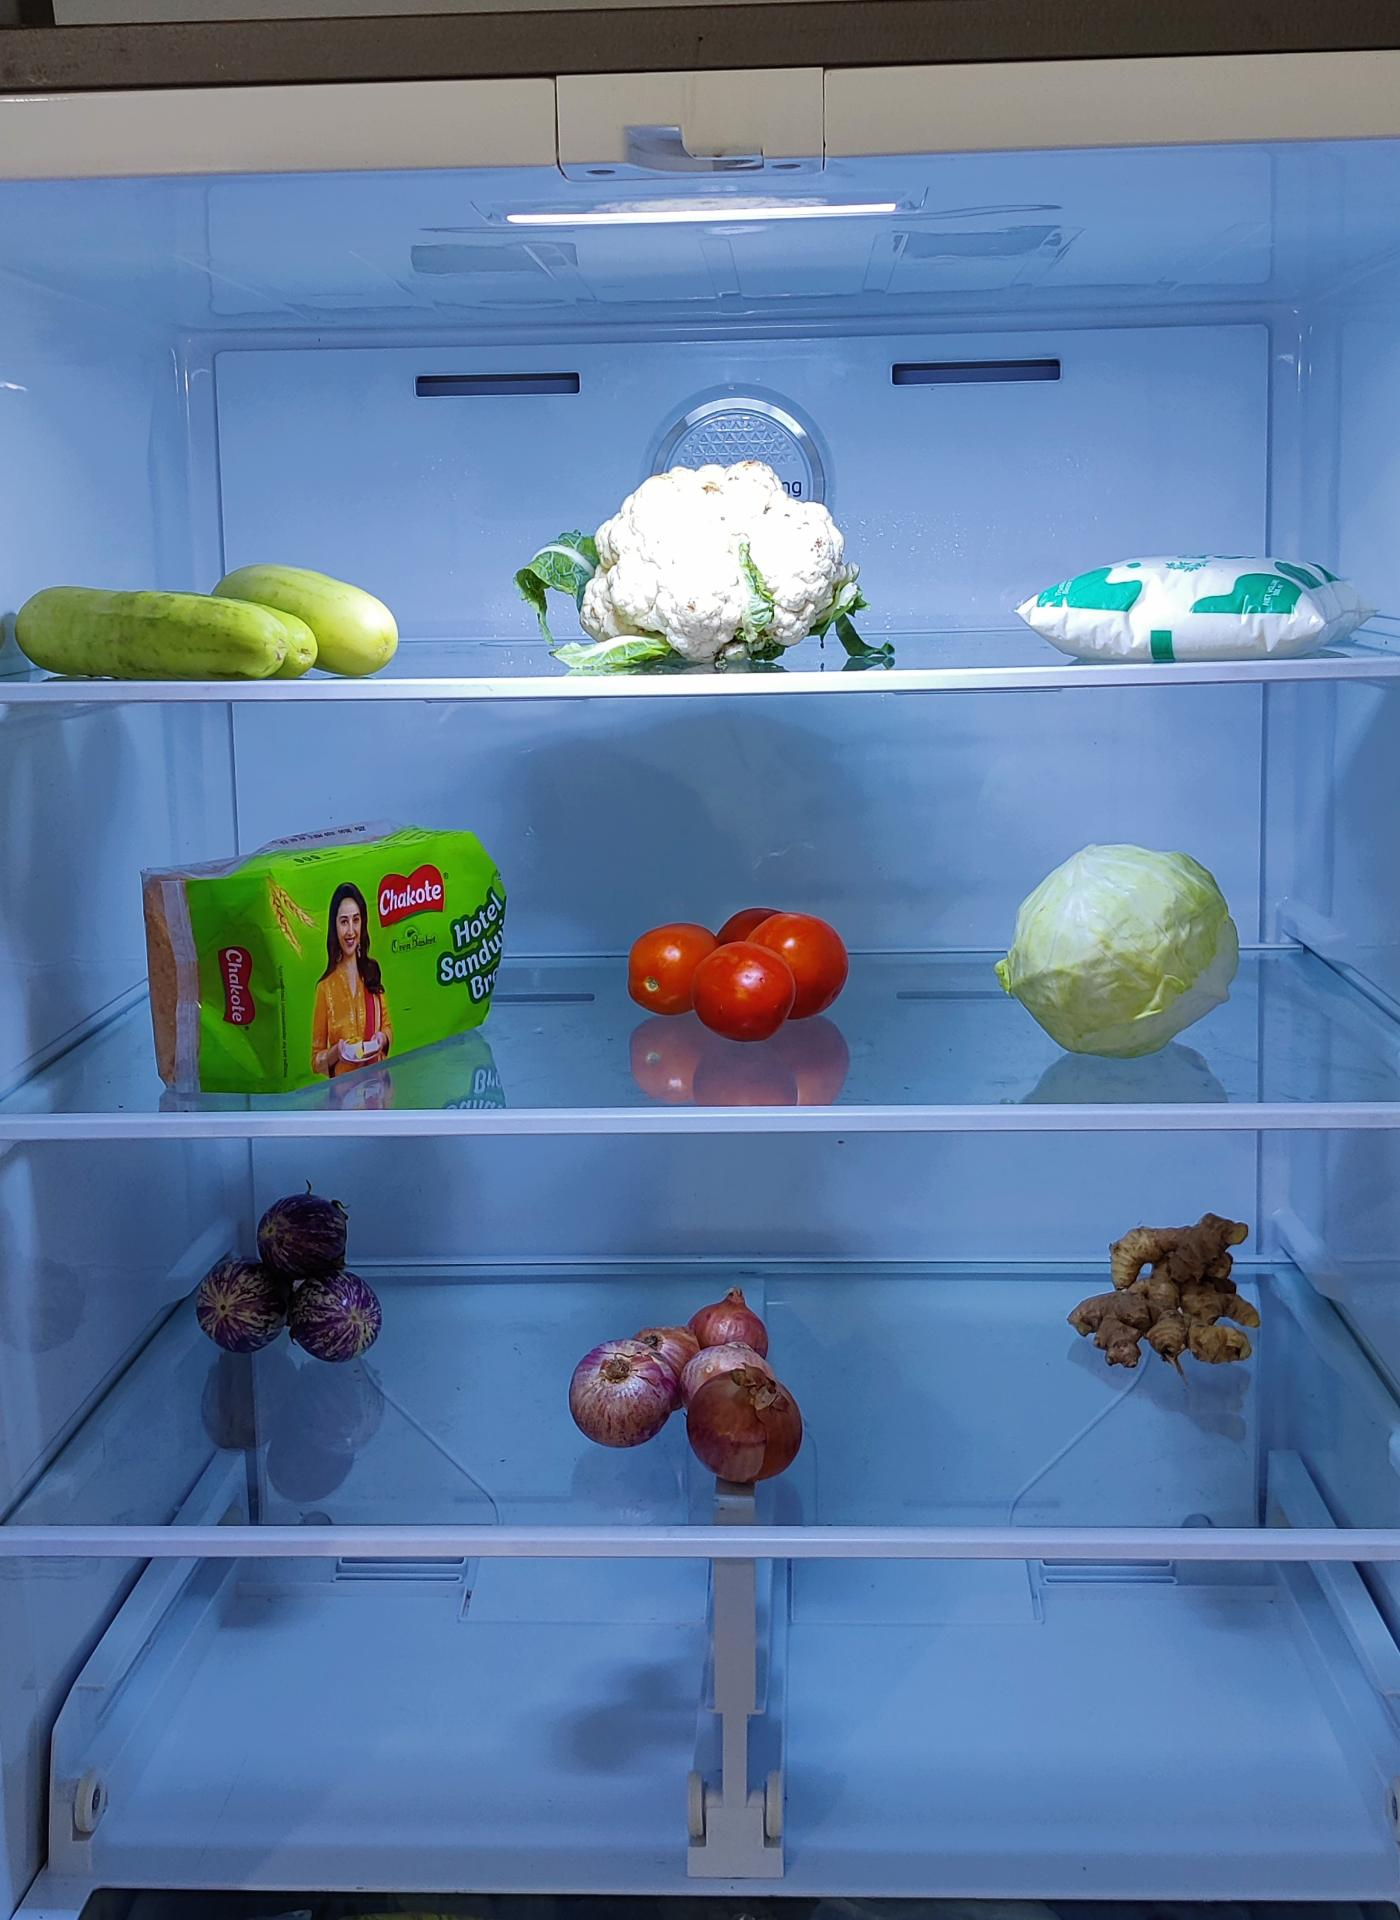bread: (134, 830, 514, 1108)
brinjal: (206, 1190, 376, 1370)
cabbage: (1003, 842, 1249, 1057)
cauliflower: (538, 467, 866, 662)
cucumber: (9, 577, 398, 690)
ginger: (1063, 1209, 1260, 1370)
milk: (1026, 552, 1372, 669)
onion: (568, 1295, 811, 1495)
tomato: (632, 909, 857, 1045)
